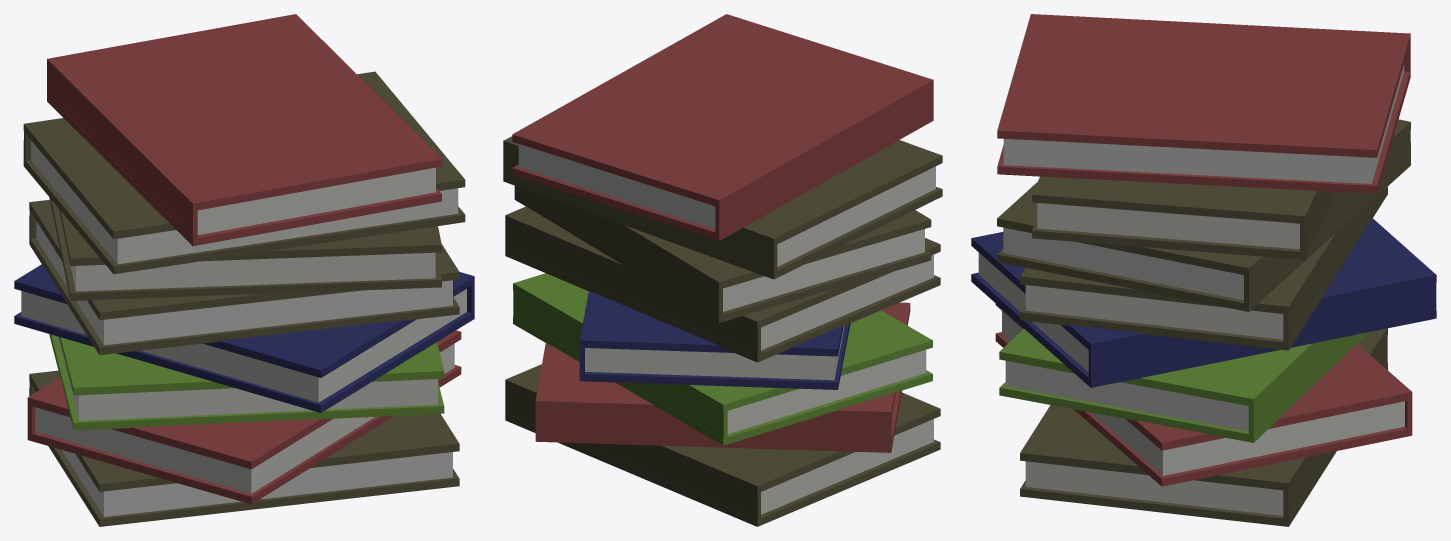
File: books.fbx
3 views of the same model, side by side, from view 1: azimuth 30°, elevation 25°; view 2: azimuth 150°, elevation 25°; view 3: azimuth 270°, elevation 25° (orthographic). The views are drawn at different scales.
Visible parts, largest first — view 1: PM3D_Plane3D193_025; view 2: PM3D_Plane3D193_025; view 3: PM3D_Plane3D193_025.
Boxes of the visible parts, <box> form: PM3D_Plane3D193_025: <box>14,14,474,526</box>; PM3D_Plane3D193_025: <box>503,14,942,526</box>; PM3D_Plane3D193_025: <box>971,14,1436,526</box>.
Size of the model in its own units: 28.46 by 23.72 by 28.43.
